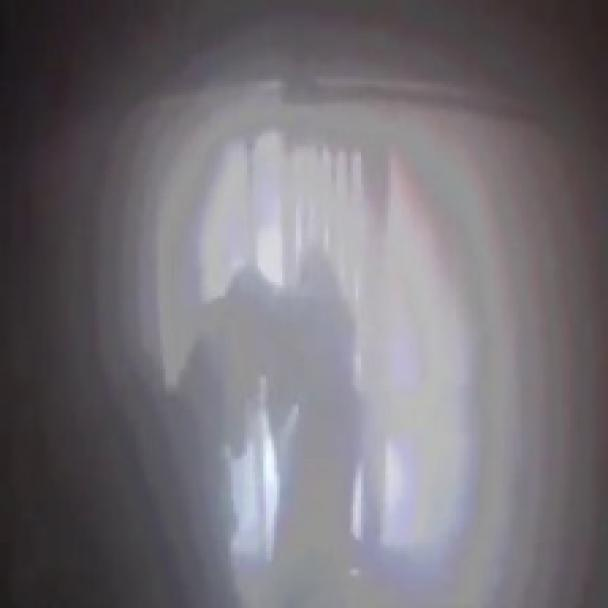smoke: (90, 5, 605, 605)
